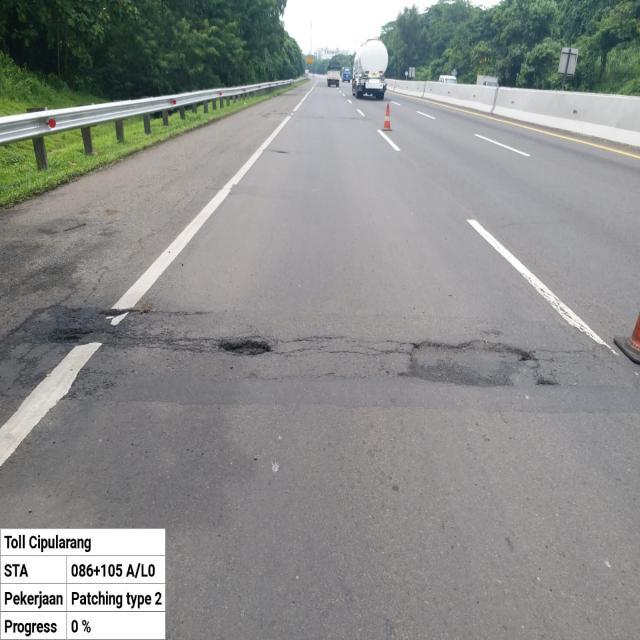Buraco: (396, 338, 562, 389), (215, 334, 277, 359), (96, 302, 160, 319), (45, 326, 97, 345), (270, 148, 290, 155)
